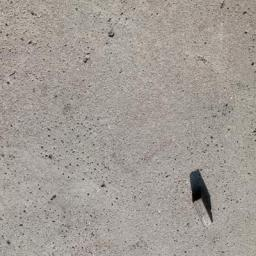FOD: (188, 169, 219, 229)
